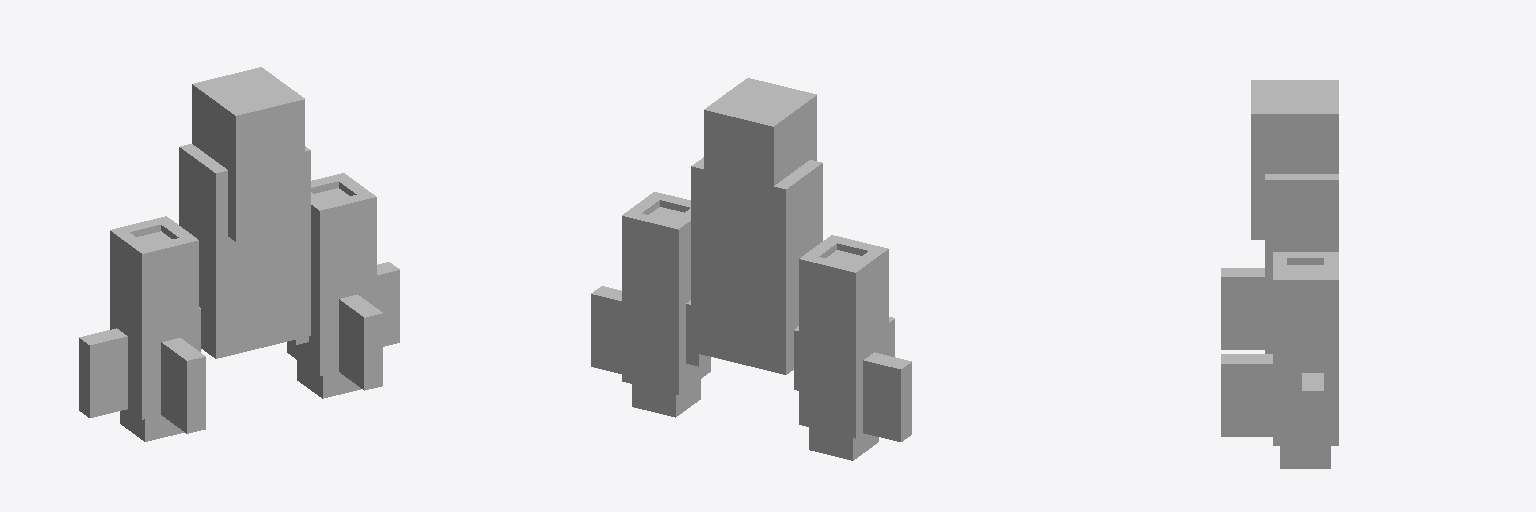
File: Mithrim class.obj
3 renders of one model, left to right at view 1: azimuth 30°, elevation 25°; view 2: azimuth 150°, elevation 25°; view 3: azimuth 270°, elevation 25°, orthographic.
Bounding box in the file's own units: 49 × 48 × 16.